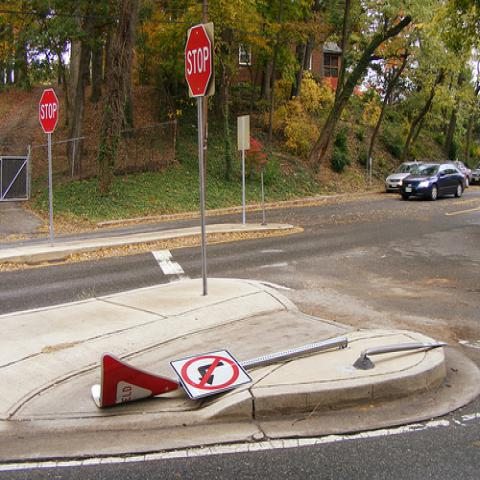car: (398, 162, 466, 201), (385, 160, 425, 192), (454, 162, 472, 187), (470, 161, 479, 185)
